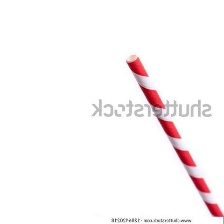drinking_straw: (121, 48, 224, 220)
